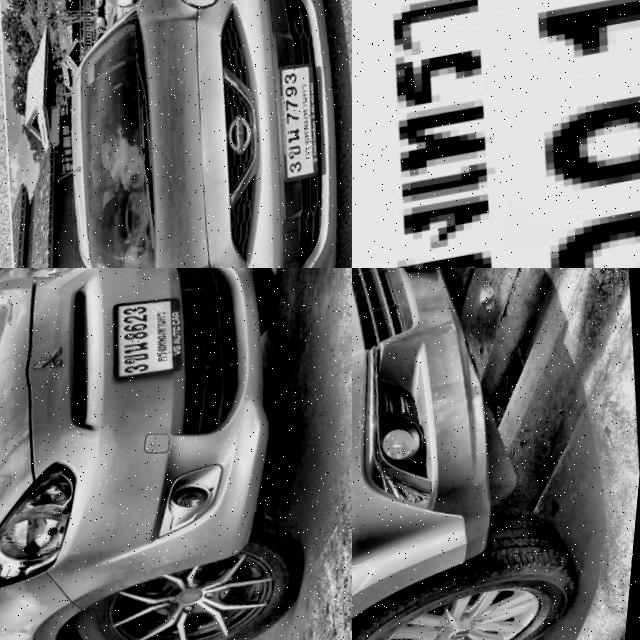license-plate: (352, 0, 640, 268), (263, 55, 346, 208), (104, 296, 191, 388)
